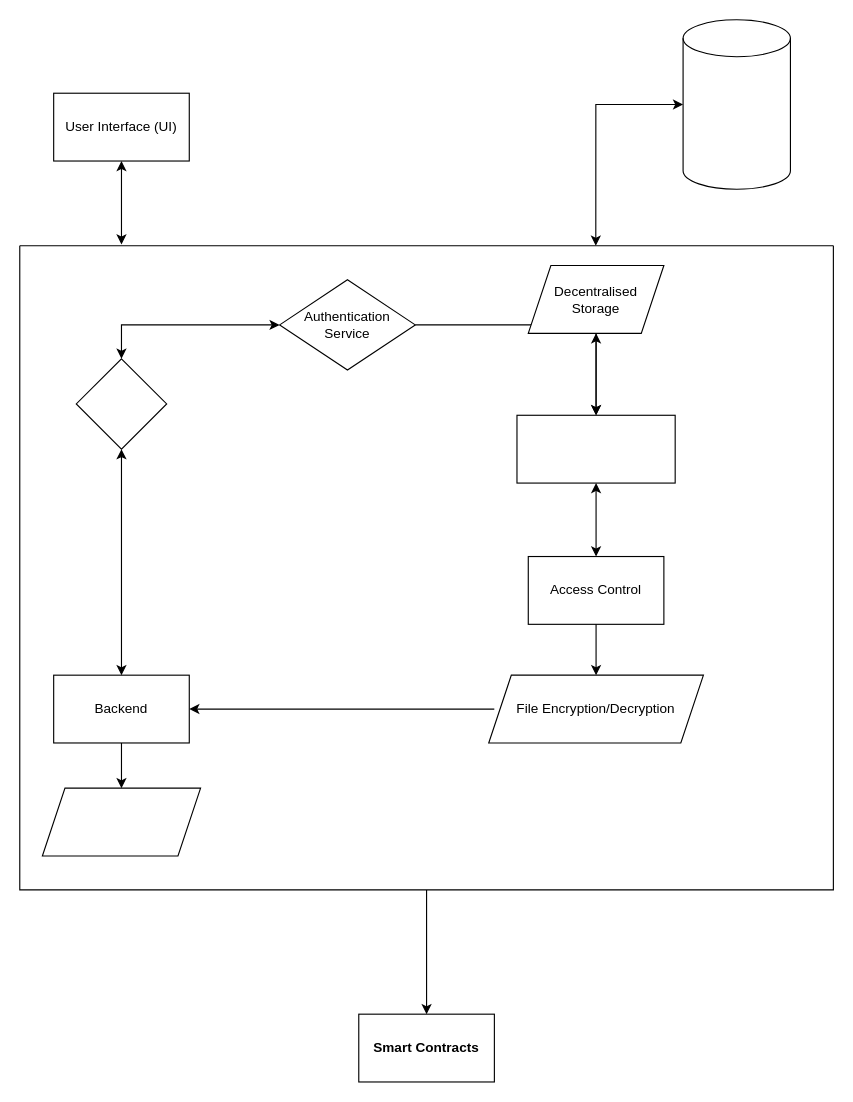
Image size: 853x1102. Some labels were removed from this diagram. The centre of each missing label's shape, as x and y in pixels:
"APIs" belongs at point 121,403.
"Audit Trail Service" belongs at point 121,821.
"Decentralized Identity Management" belongs at point 595,448.
"IPFS/Filecoin" belongs at point 736,104.
